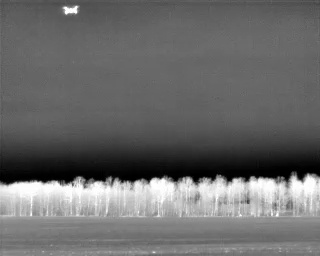DRONE: (59, 1, 83, 20)
